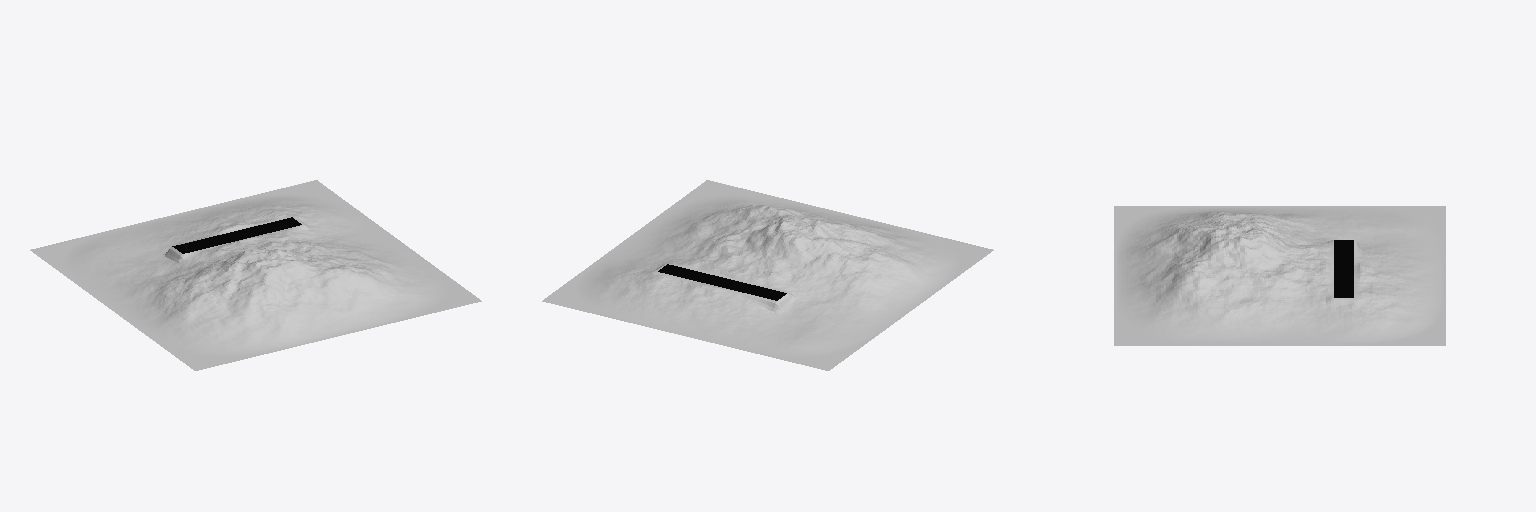
3 views of the same model, side by side, from view 1: azimuth 30°, elevation 25°; view 2: azimuth 150°, elevation 25°; view 3: azimuth 270°, elevation 25° (orthographic).
Visible parts, largest first — view 1: Landscape; view 2: Landscape; view 3: Landscape.
Boxes of the visible parts, x1,y1,x2,y2 form: Landscape: [30, 180, 481, 370]; Landscape: [542, 180, 993, 370]; Landscape: [1114, 206, 1445, 345].
Size of the model in its own units: 2 by 0.2612 by 2.